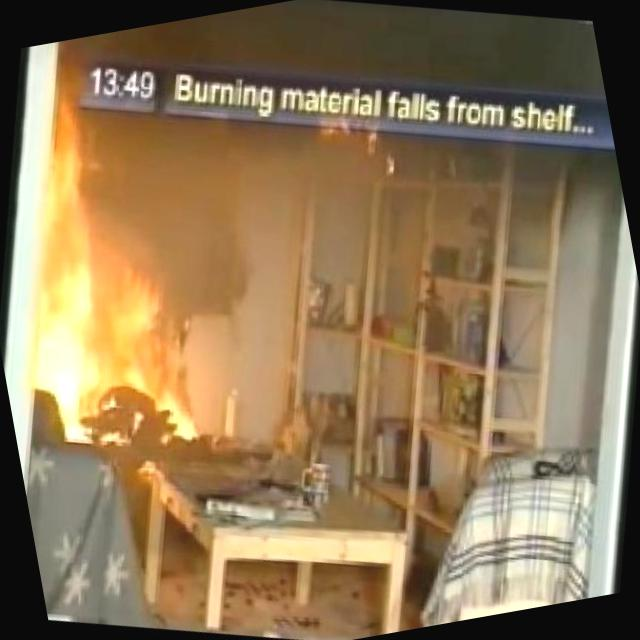fire: (0, 92, 231, 419)
